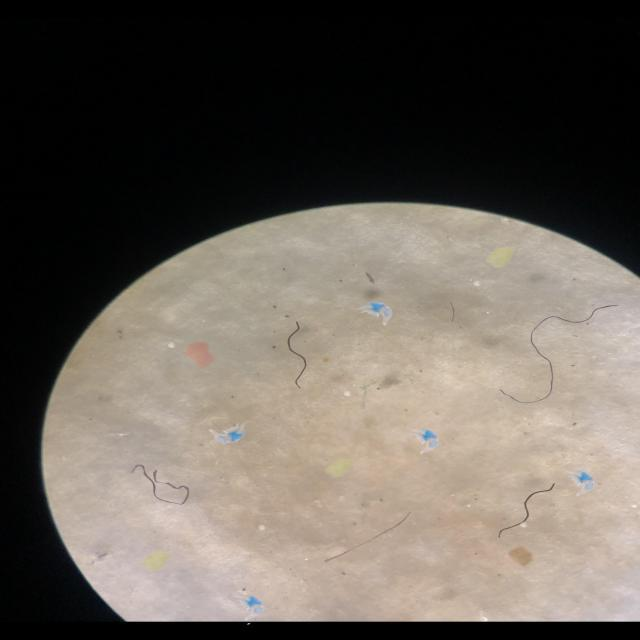fiber: (500, 302, 626, 402), (323, 505, 419, 561), (498, 483, 559, 545), (127, 462, 205, 510), (277, 318, 319, 389)
film: (396, 423, 446, 459), (353, 295, 403, 329), (228, 587, 273, 623), (561, 471, 611, 501), (209, 416, 252, 446)
fragment: (134, 549, 181, 575), (482, 240, 516, 275), (183, 338, 215, 371), (502, 541, 538, 568), (319, 456, 354, 483)
pallet: (466, 276, 486, 292), (161, 339, 180, 355), (514, 517, 529, 533), (253, 520, 269, 534), (338, 389, 352, 404)
